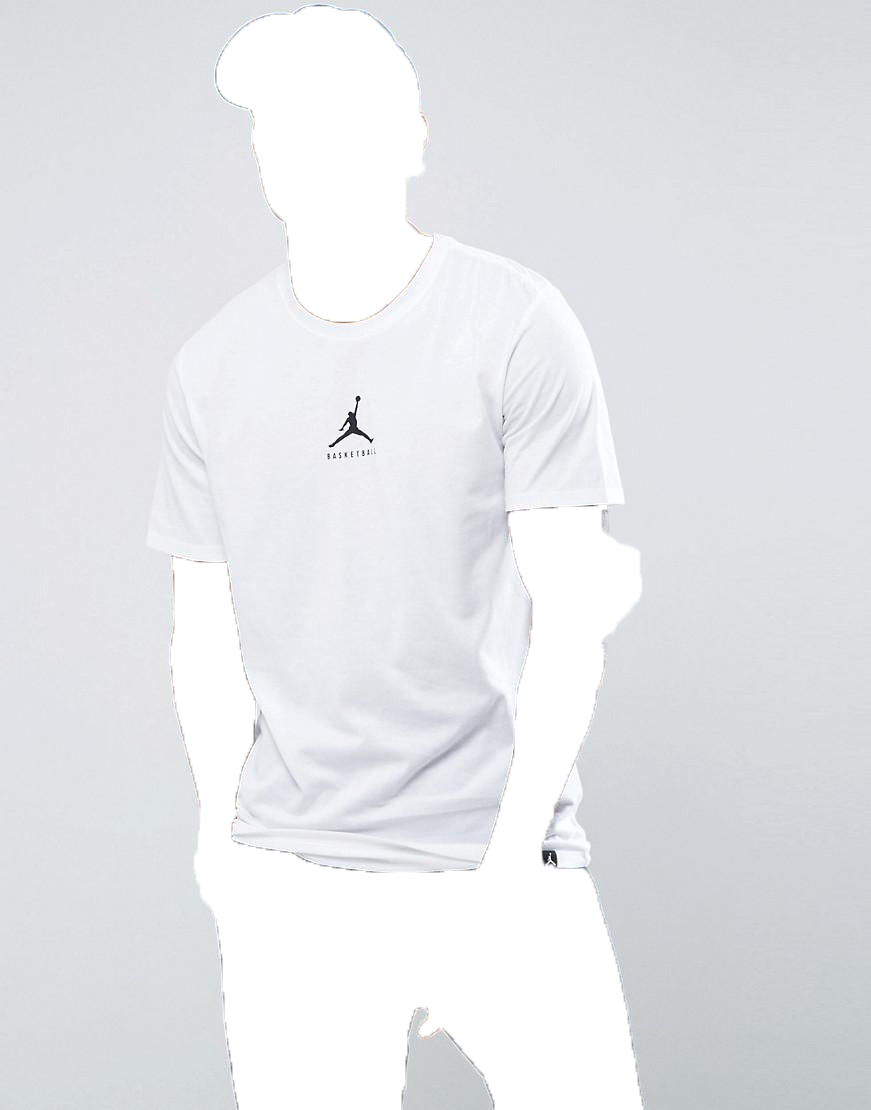teeshirt: (135, 237, 637, 896)
